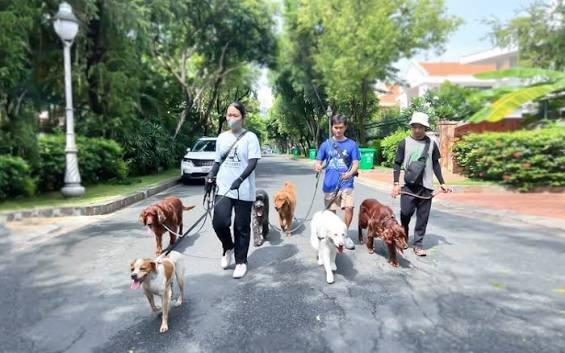adult_dog: (130, 252, 185, 335), (137, 194, 195, 259), (357, 196, 409, 268), (310, 211, 349, 286), (272, 181, 298, 236), (247, 193, 273, 246)
